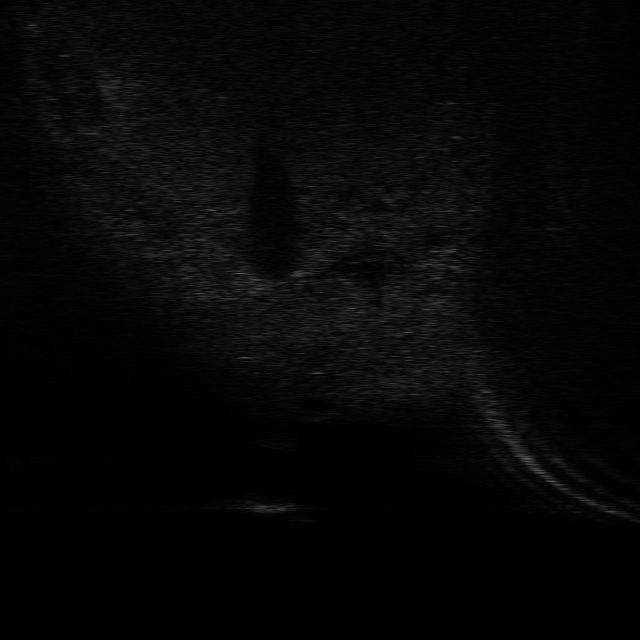cube: (225, 496, 299, 516)
